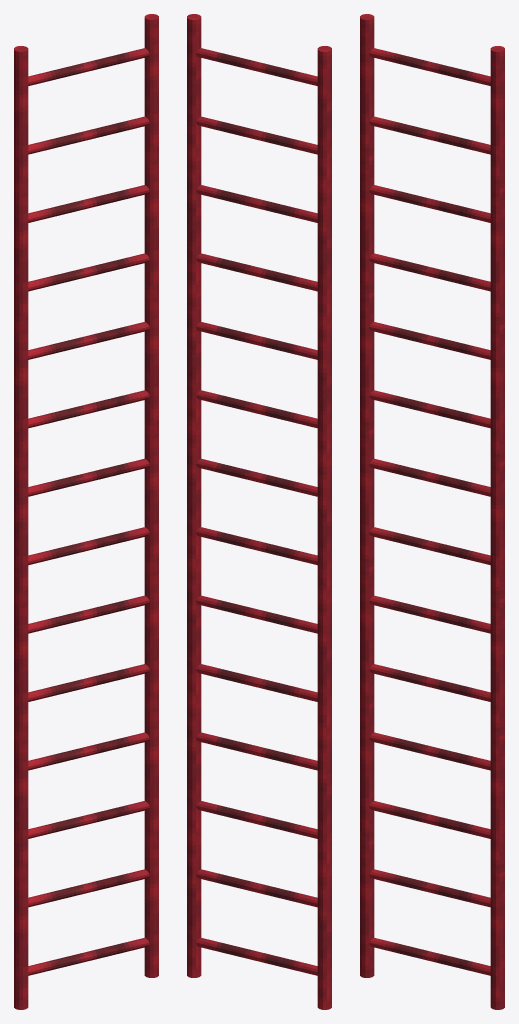
Rendered from bunkerLadder_1 - merged.gltf.
3 renders of one model, left to right at view 1: azimuth 30°, elevation 25°; view 2: azimuth 150°, elevation 25°; view 3: azimuth 330°, elevation 25°, orthographic.
Visible parts, largest first — view 1: ladder; view 2: ladder; view 3: ladder.
Part boxes in pixels (box(x1,y1,x2,y2)): ladder: box(14, 14, 158, 1009); ladder: box(187, 14, 331, 1009); ladder: box(360, 14, 504, 1009).
Bounding box in the file's own units: 1.09 × 7 × 0.0938.
Materials: 2 (2 with a texture image).
